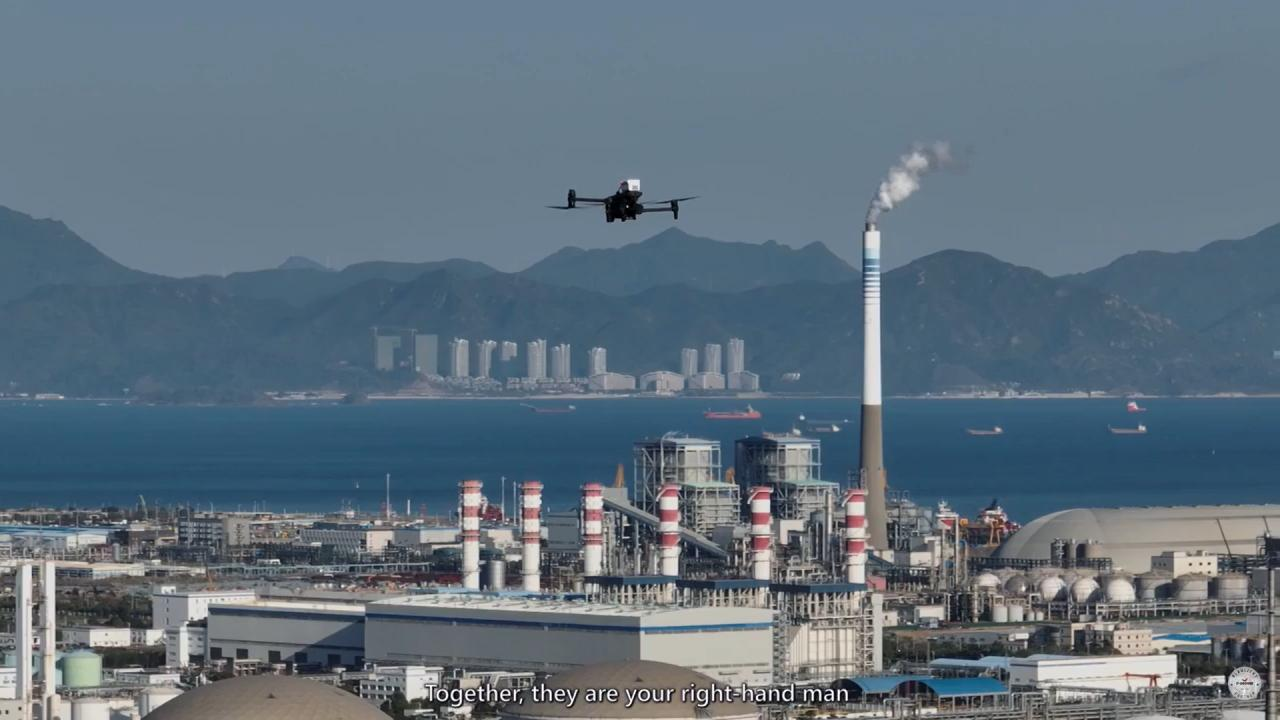Drone: (542, 168, 708, 236)
